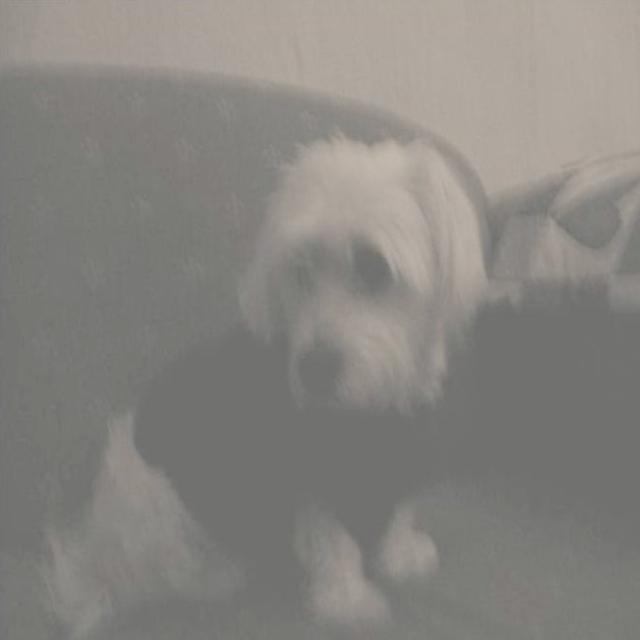Dog: (170, 112, 588, 614)
